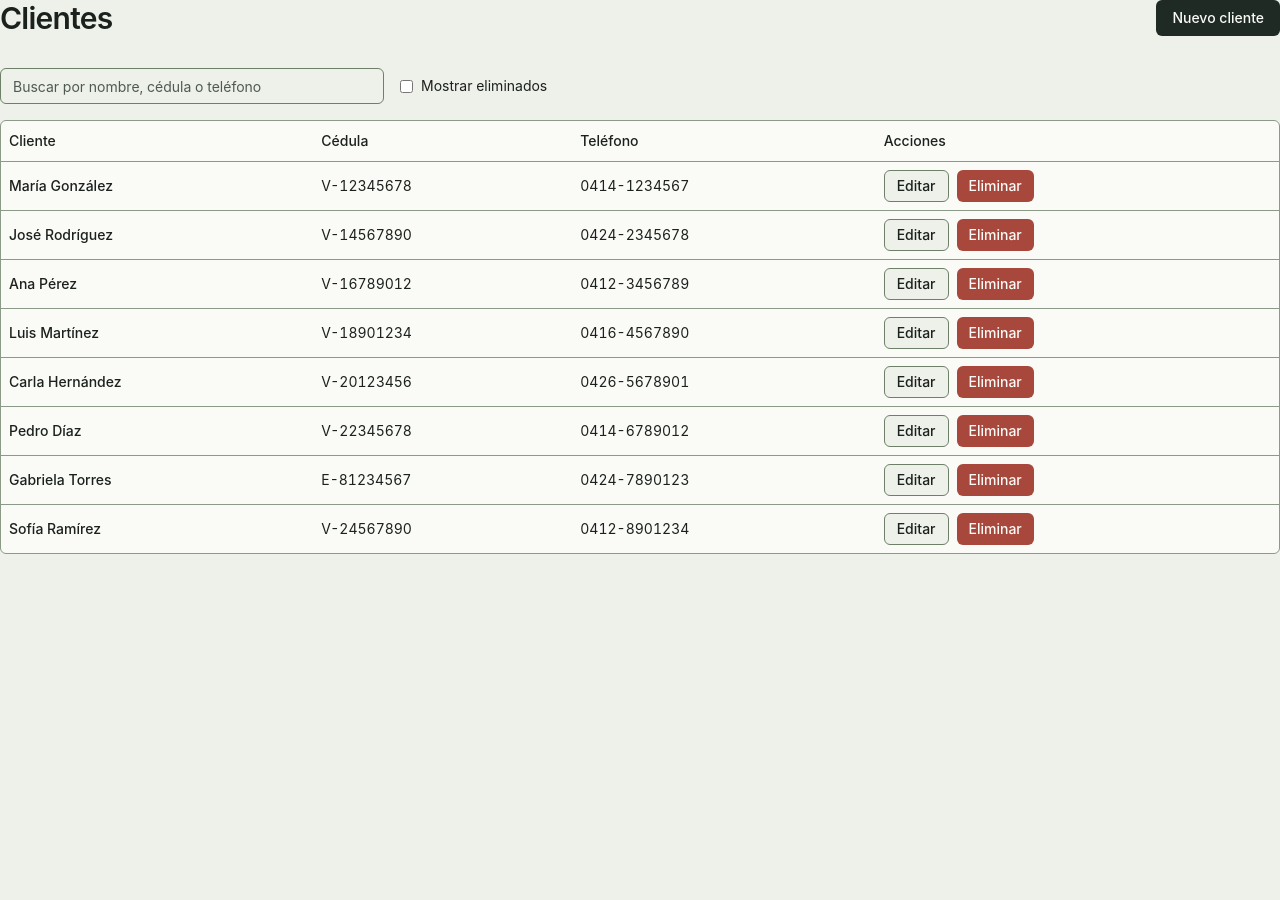
Test: ClientsPage › Editar abre el diálogo con los datos y guarda los cambios
The width and height of the screenshot is (1280, 900).
Click the button with aria-label "Editar María González" at (916, 186), box x1=884 y1=170 x2=948 y2=202
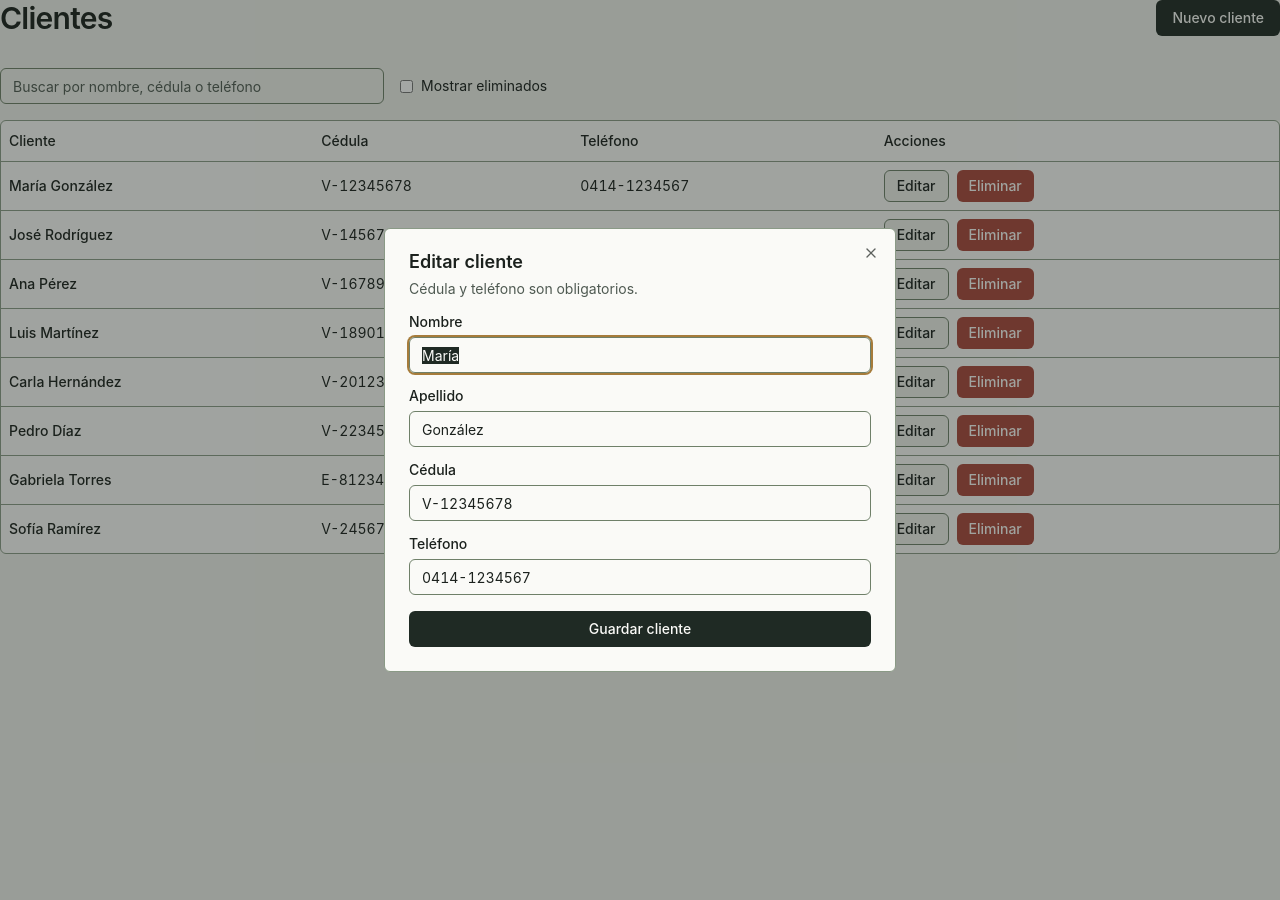
Check: the field labelled "Nombre" holds "María"
Replace the text in the field labelled "Nombre" with "Mariela" at (640, 355), box x1=409 y1=337 x2=871 y2=373
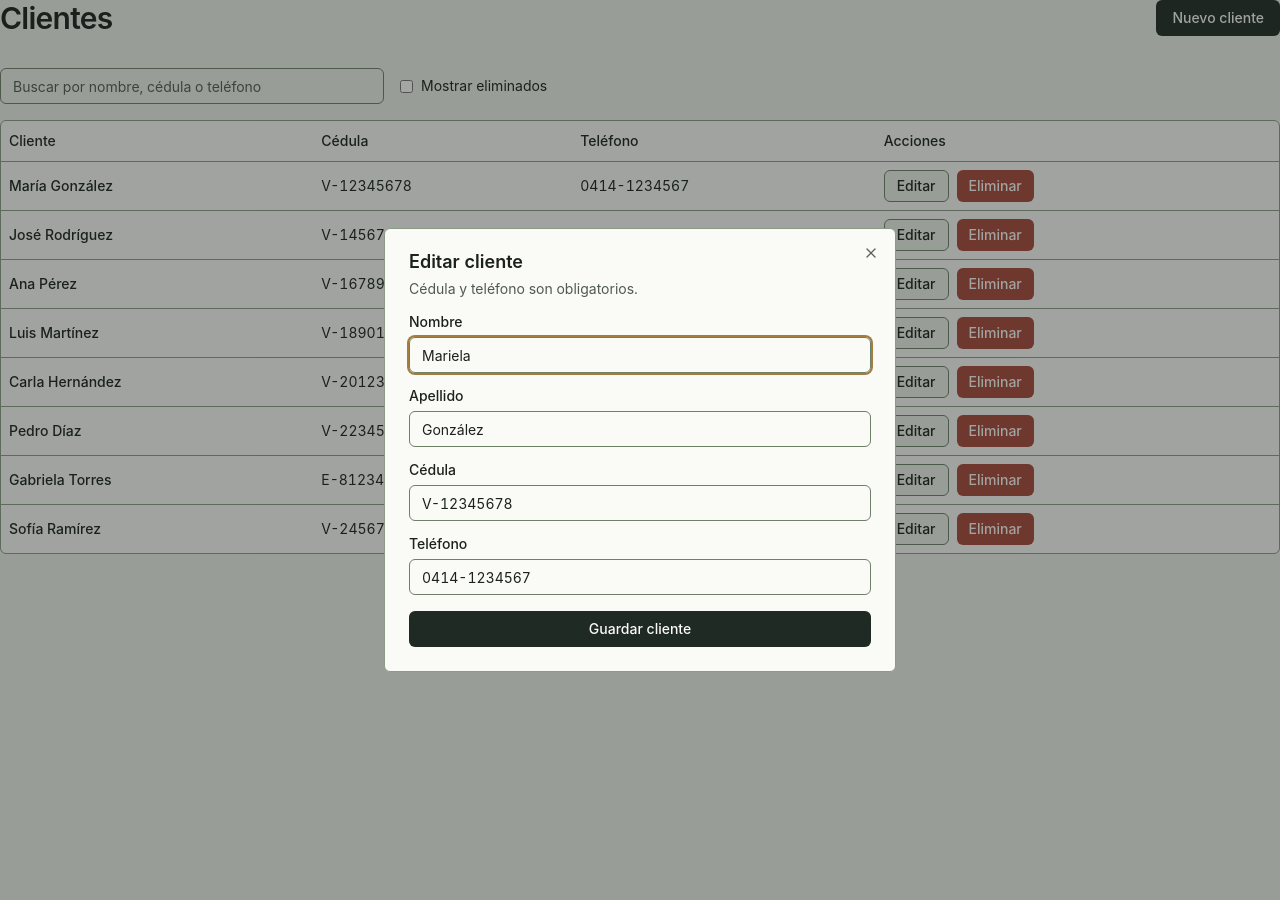
Click the button "Guardar cliente" at (640, 629), box x1=409 y1=611 x2=871 y2=647
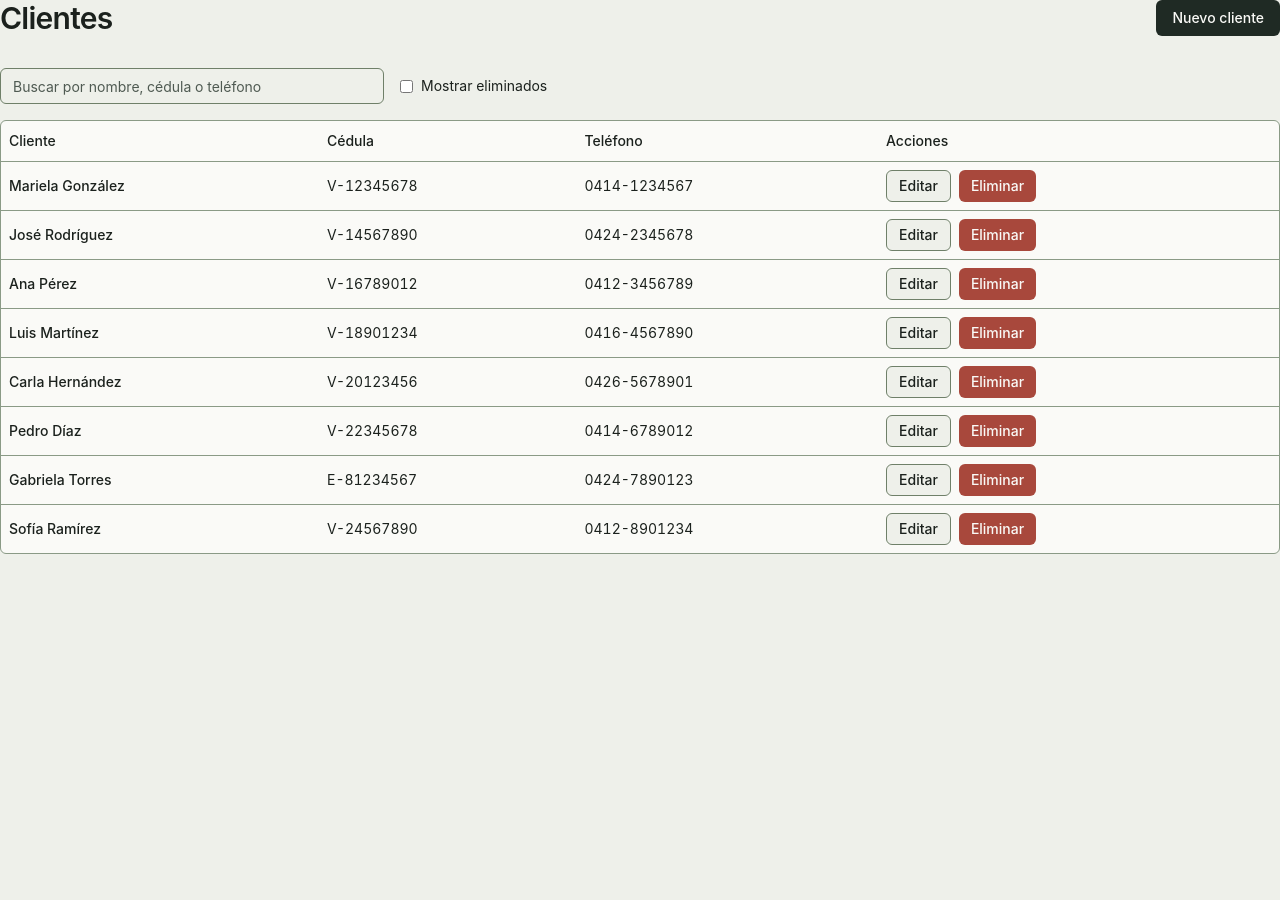
Check: the link "Mariela González" is shown, box x1=9 y1=176 x2=125 y2=194
